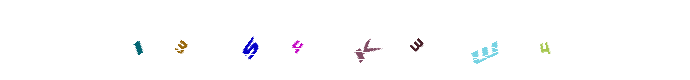3: (210, 0, 290, 80), (377, 0, 457, 80)
4: (267, 0, 347, 80), (416, 0, 496, 80)
I: (98, 0, 178, 80)
K: (304, 0, 384, 80)
S: (256, 0, 336, 80)
W: (411, 0, 491, 80)
